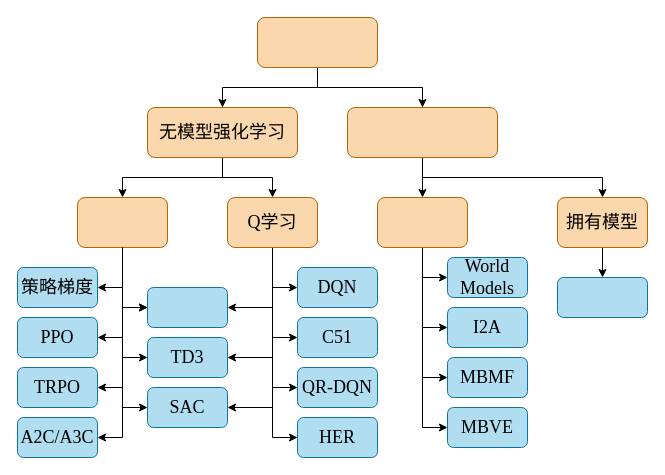
This 665x475 diagram has some shape labels left out. Here are the shapes that lost their labels. From the top down, the centre of each, then its label:
At point (317, 42): "强化学习算法".
At point (422, 132): "基于模型强化学习".
At point (122, 222): "策略优化".
At point (422, 222): "学习模型".
At point (187, 307): "DDPG".
At point (602, 297): "AlphazZero".
